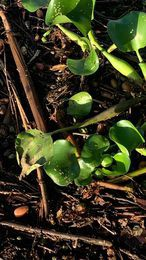water_hyacinth: (17, 0, 144, 184)
